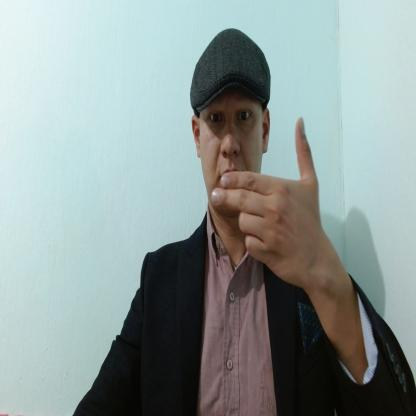H: (211, 117, 320, 289)
